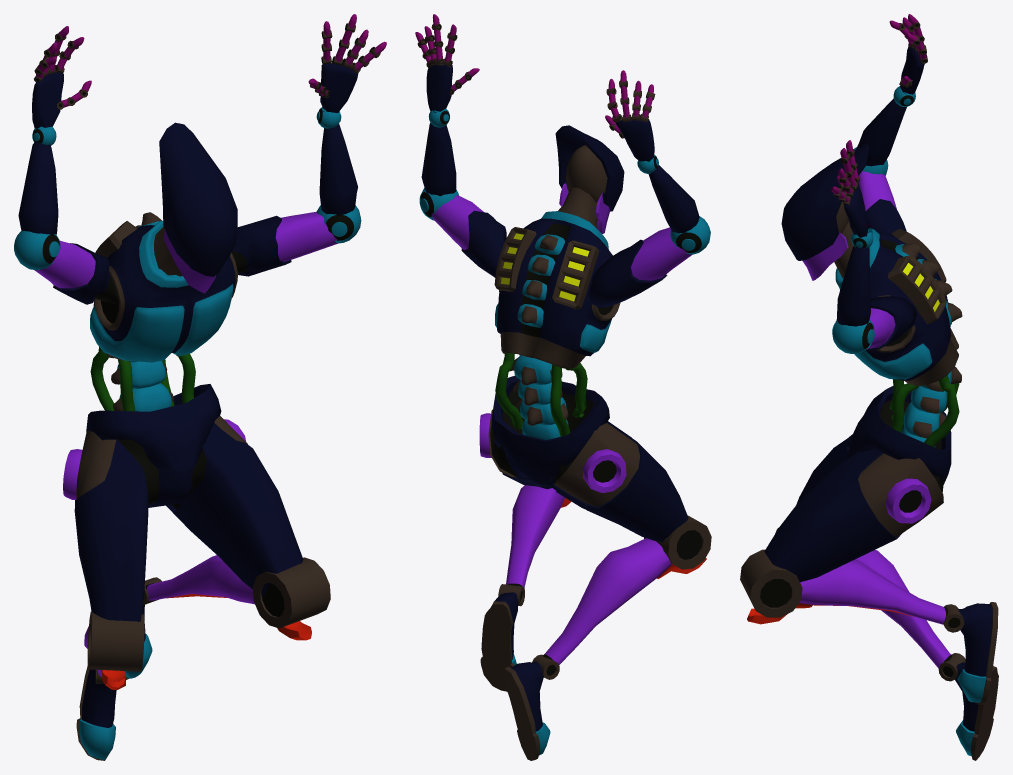
The model's file is OBJ_PersoPose_2.fbx.
3 views of the same model, side by side, from view 1: azimuth 30°, elevation 25°; view 2: azimuth 150°, elevation 25°; view 3: azimuth 270°, elevation 25° (orthographic). The views are drawn at different scales.
Visible parts, largest first — view 1: OBJ_PersoPose_2; view 2: OBJ_PersoPose_2; view 3: OBJ_PersoPose_2.
Boxes of the visible parts, bbox=[...] form: OBJ_PersoPose_2: bbox=[14, 14, 386, 760]; OBJ_PersoPose_2: bbox=[415, 14, 711, 760]; OBJ_PersoPose_2: bbox=[740, 14, 998, 760].
Size of the model in its own units: 36.33 by 76.8 by 25.24.
